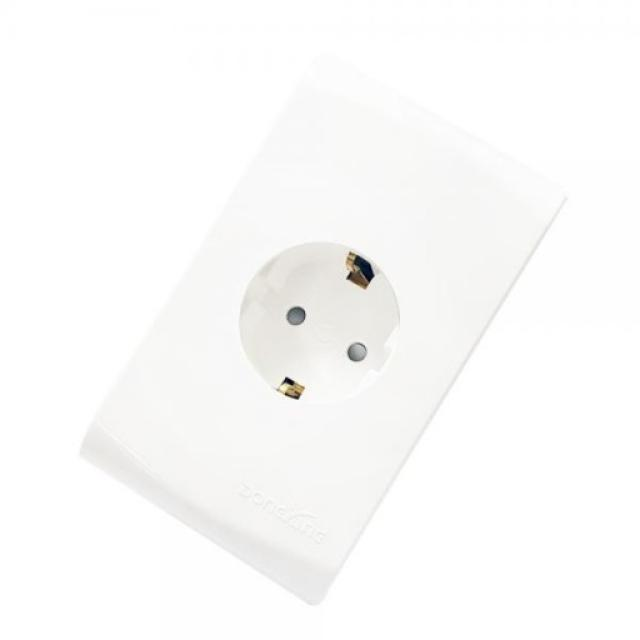typeb: (31, 27, 598, 602)
